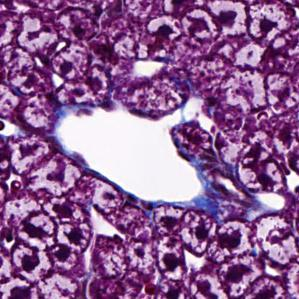inflammation: (14, 205, 59, 248), (52, 43, 95, 81), (144, 11, 180, 46)
